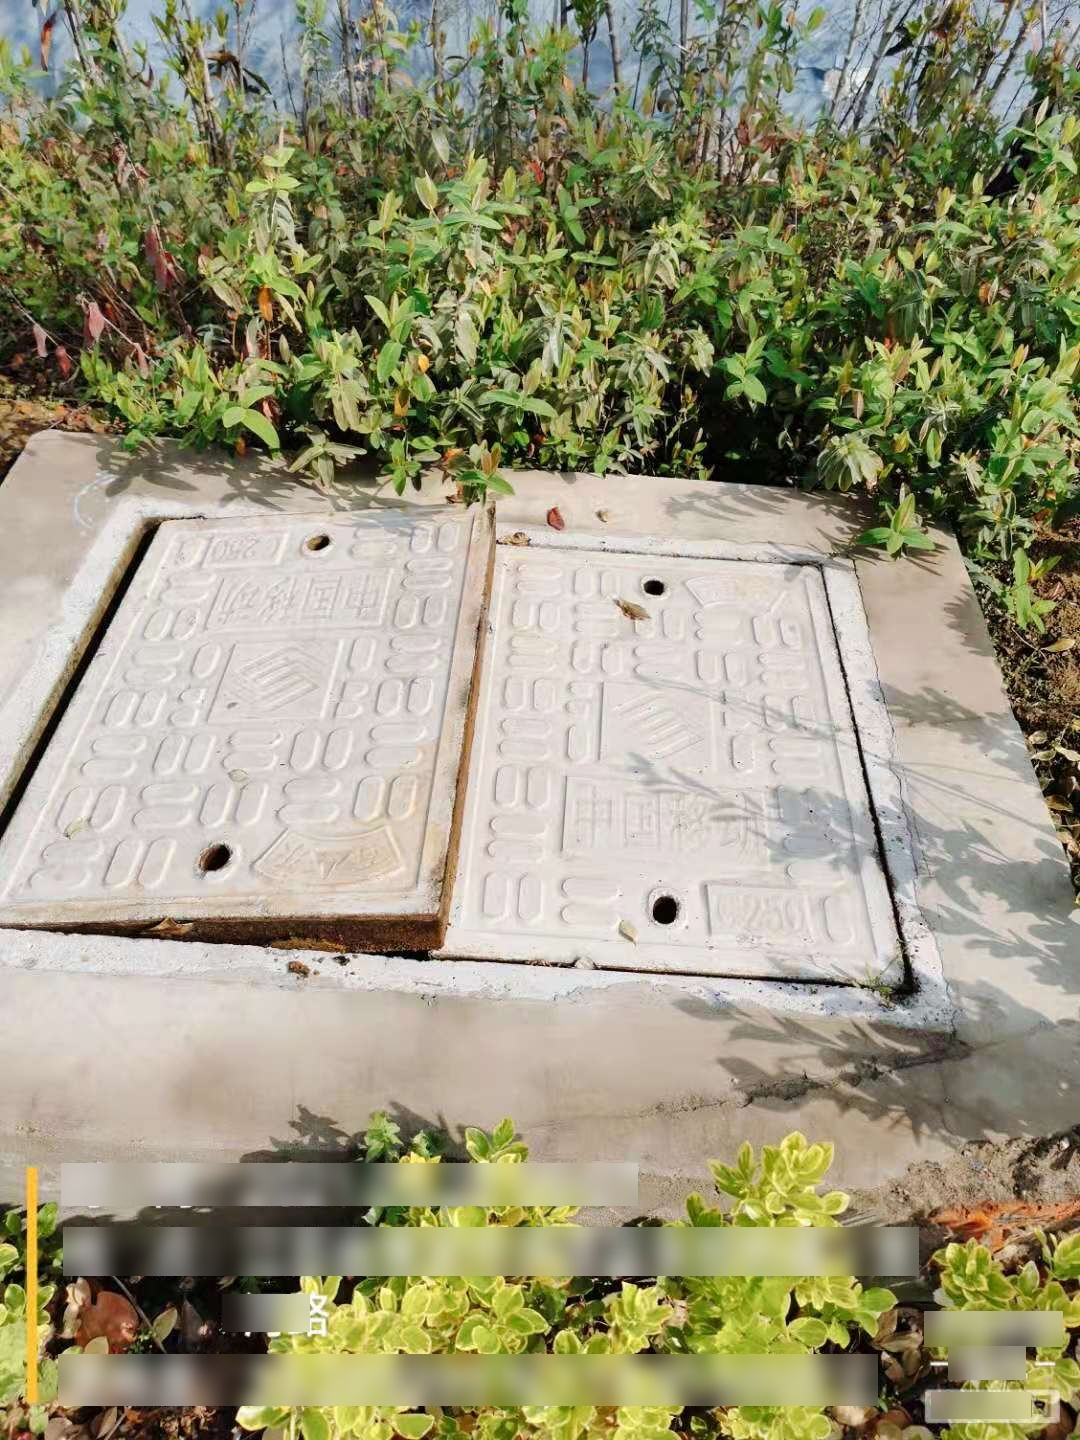uncovered: (3, 495, 957, 1025)
